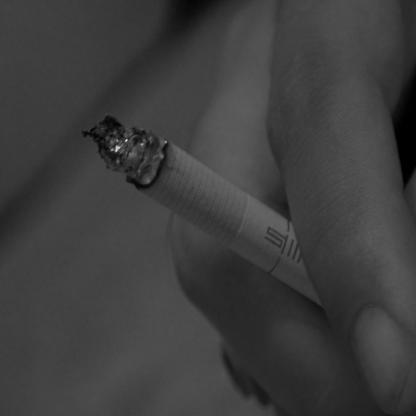smoking: (82, 113, 358, 318)
